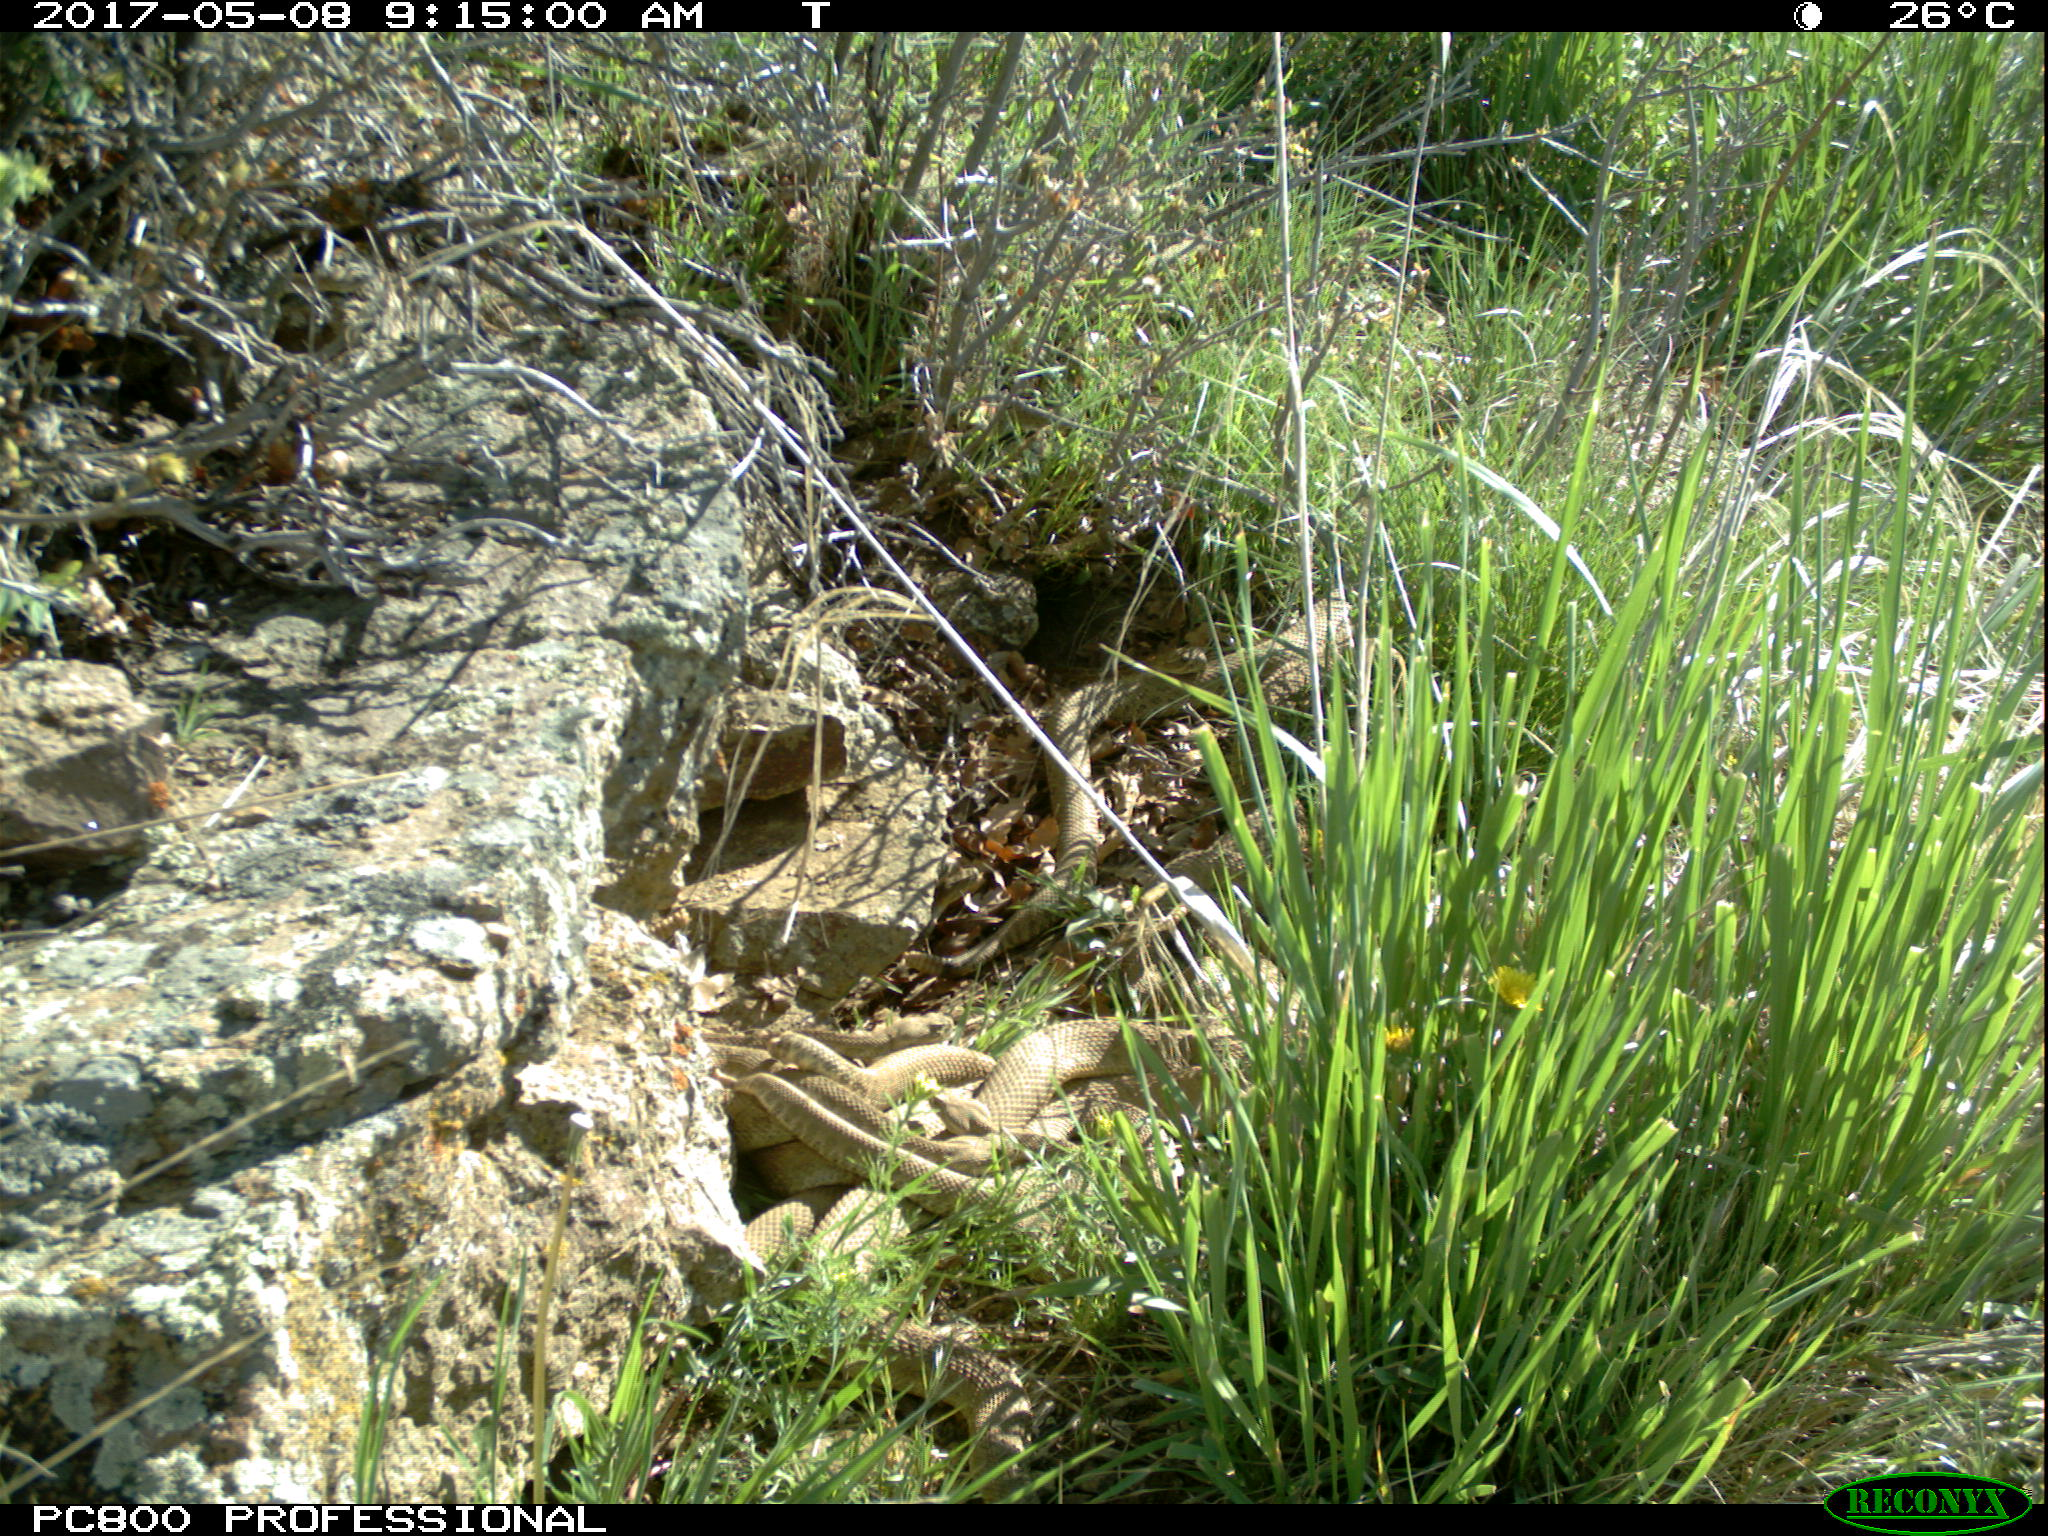snake: (732, 1008, 1232, 1189), (760, 1184, 1045, 1501), (1026, 670, 1192, 939), (1197, 570, 1401, 728)
